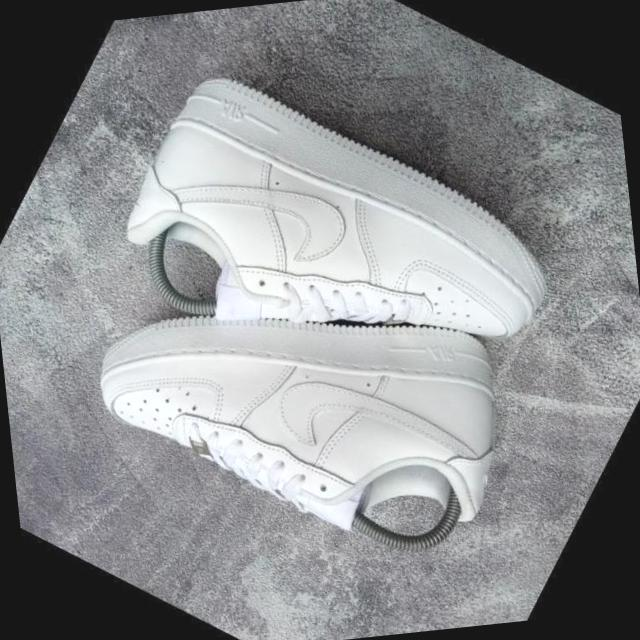nike_fake_airforce: (79, 12, 600, 486), (63, 150, 582, 620)
